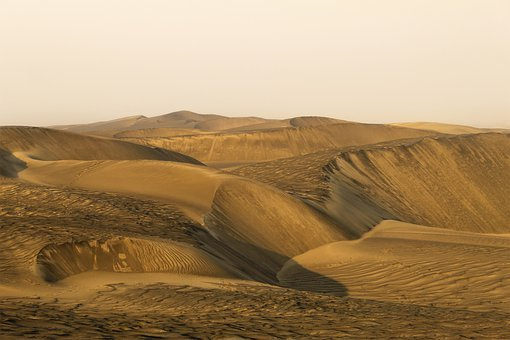desert: (8, 116, 510, 339)
sky: (2, 2, 510, 120)
